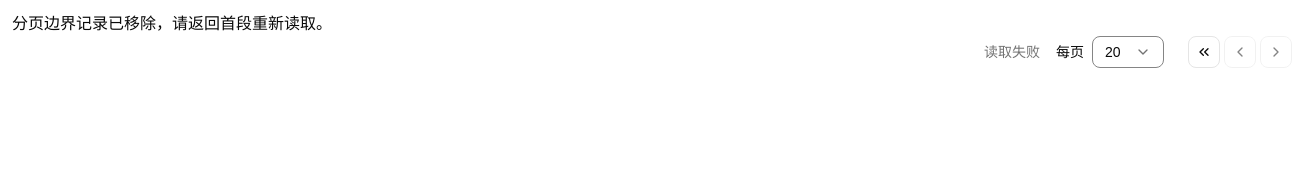
Scenario: server history table › drops a previously displayed page when cleanup deletes its cursor and revalidation fails
This screenshot has width=1304, height=172.
Check: the button named "上一页" is disabled, box [1224,36,1256,68]
Check: the button named "下一页" is disabled, box [1260,36,1292,68]
Click the button named "返回首段" at (1204, 52), box [1188,36,1220,68]
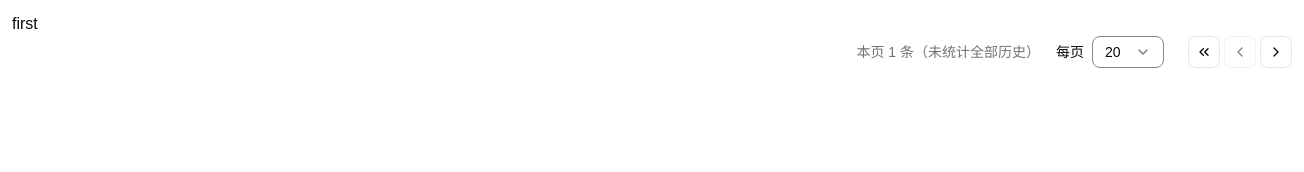
Check: the text "first" is shown, box [12,15,38,32]
